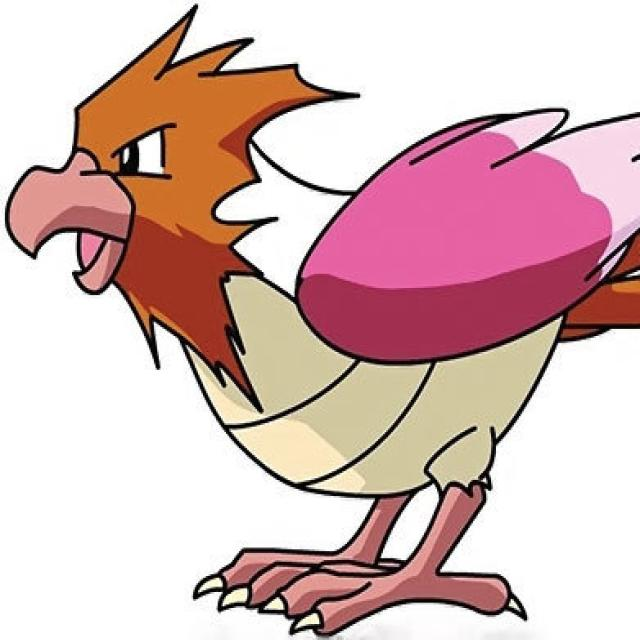Spearow: (47, 34, 611, 598)
